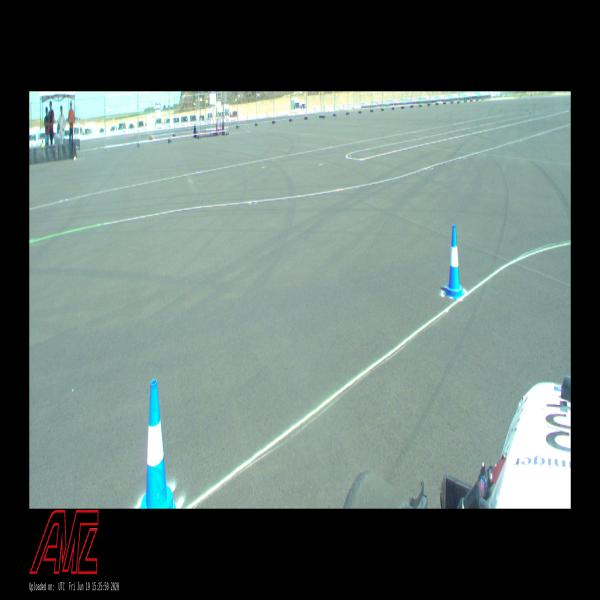blue_cone: (140, 379, 177, 508), (443, 224, 465, 300)
